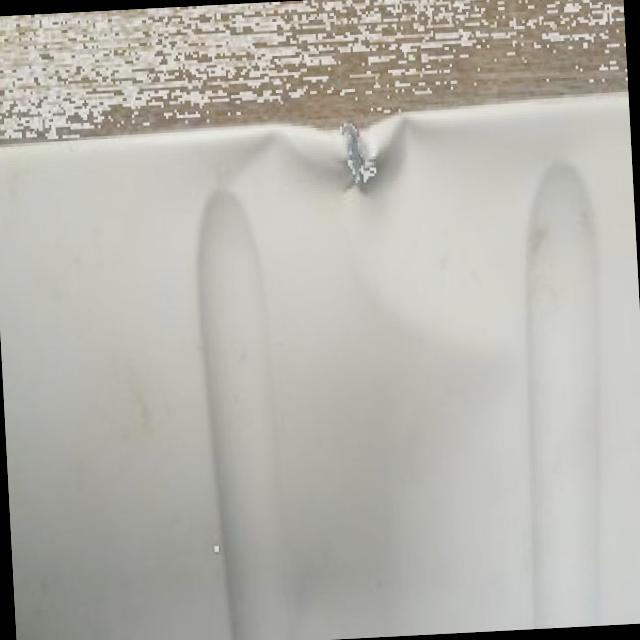crack: (332, 116, 382, 198)
